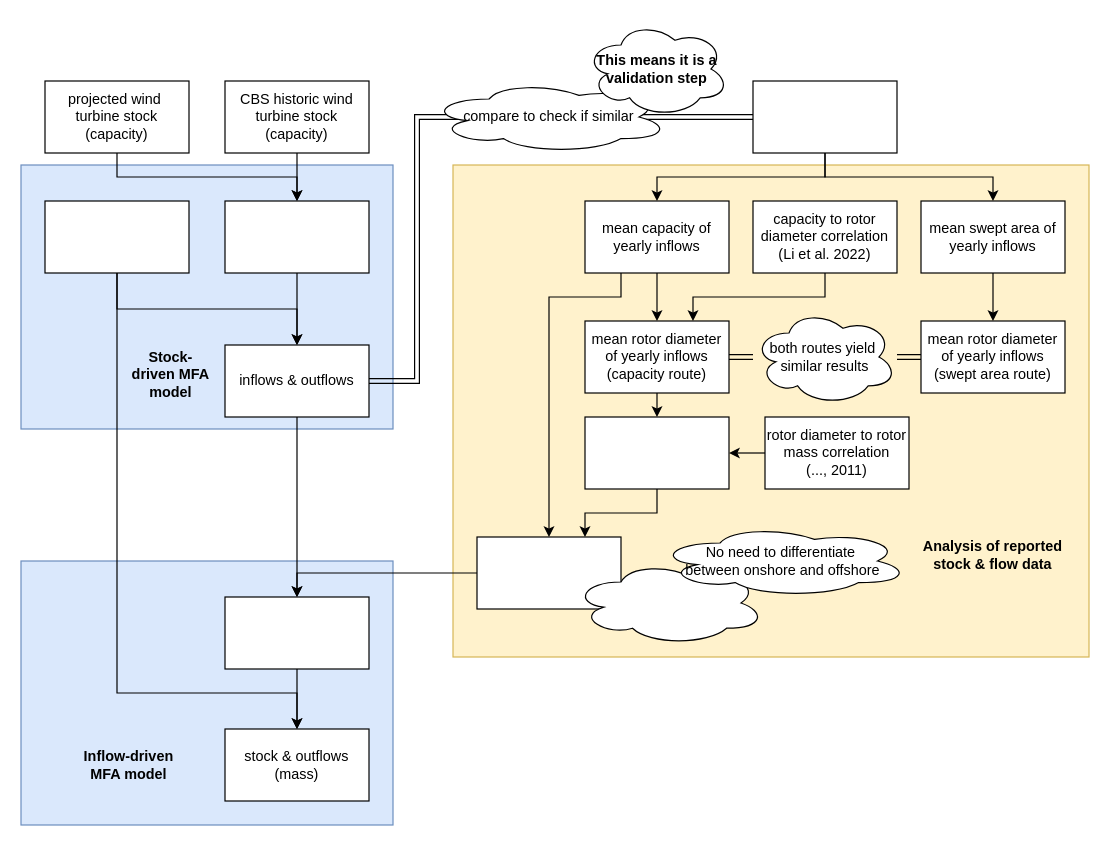
This 1110x846 diagram has some shape labels left out. Each missing label, with the box of its shape:
CBS historic onshore wind turbine data (per height class): (752, 80, 897, 153)
inflow (mass): (224, 596, 369, 669)
Lifetime distribution: (44, 200, 189, 273)
mean material intensity of yearly inflows (kg/MW): (476, 536, 621, 609)
mean rotor mass: (584, 416, 729, 489)
MI independent of turbine size/capacity: (572, 560, 765, 645)
wind turbine stock: (224, 200, 369, 273)
